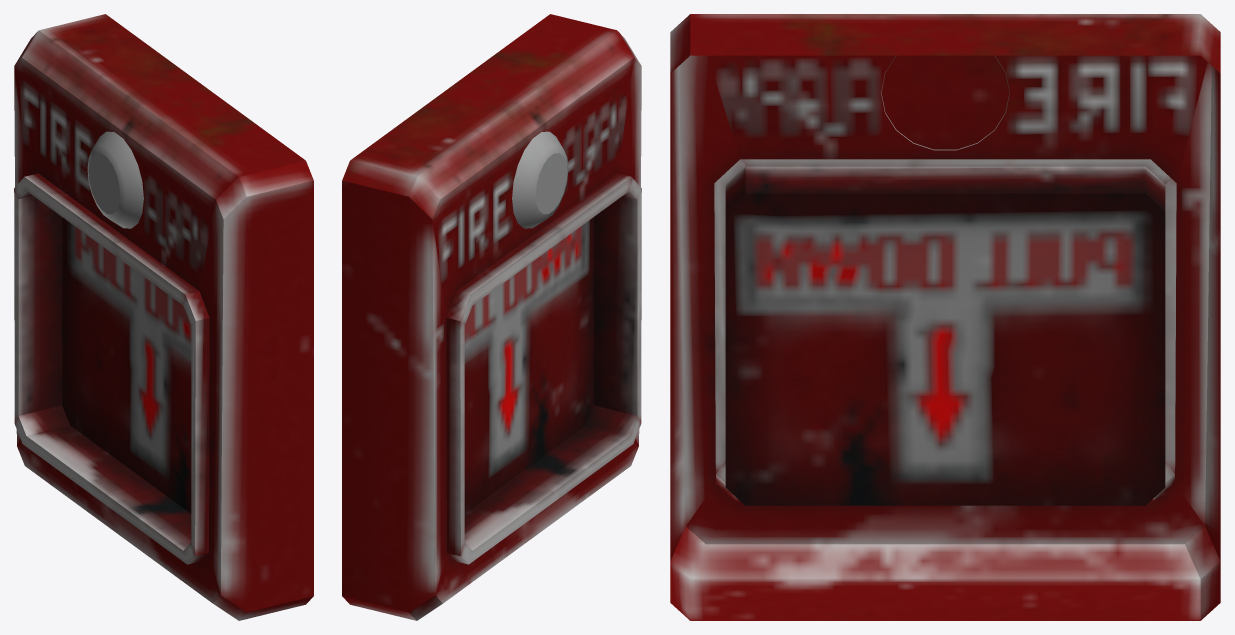
The model's file is Prop_FireExtinguisher_2.fbx.
3 renders of one model, left to right at view 1: azimuth 30°, elevation 25°; view 2: azimuth 150°, elevation 25°; view 3: azimuth 270°, elevation 25°, orthographic. The views are drawn at different scales.
Parts seen in each view (by area): view 1: Prop_FireExtinguisher_2; view 2: Prop_FireExtinguisher_2; view 3: Prop_FireExtinguisher_2.
Boxes of the visible parts, x1=… form: Prop_FireExtinguisher_2: x1=14, y1=14, x2=313, y2=620; Prop_FireExtinguisher_2: x1=342, y1=14, x2=641, y2=620; Prop_FireExtinguisher_2: x1=670, y1=14, x2=1220, y2=620.
Size of the model in its own units: 1.49 by 6.22 by 5.48.
